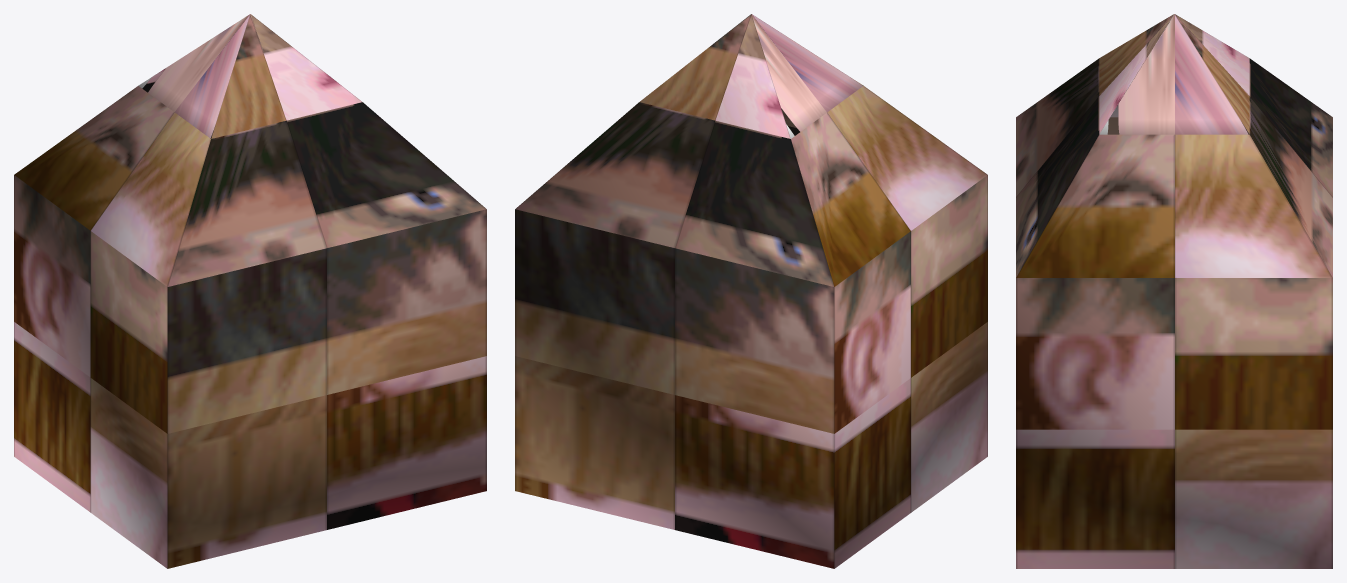
3 views of the same model, side by side, from view 1: azimuth 30°, elevation 25°; view 2: azimuth 150°, elevation 25°; view 3: azimuth 270°, elevation 25° (orthographic). The views are drawn at different scales.
Visible parts, largest first — view 1: T1L3M001_21; view 2: T1L3M001_21; view 3: T1L3M001_21.
Part boxes in pixels (x1,y1,x2,y2): T1L3M001_21: (14, 14, 486, 568); T1L3M001_21: (515, 14, 987, 568); T1L3M001_21: (1016, 14, 1332, 568).
Size of the model in its own units: 0.4424 by 0.6084 by 0.3682.
